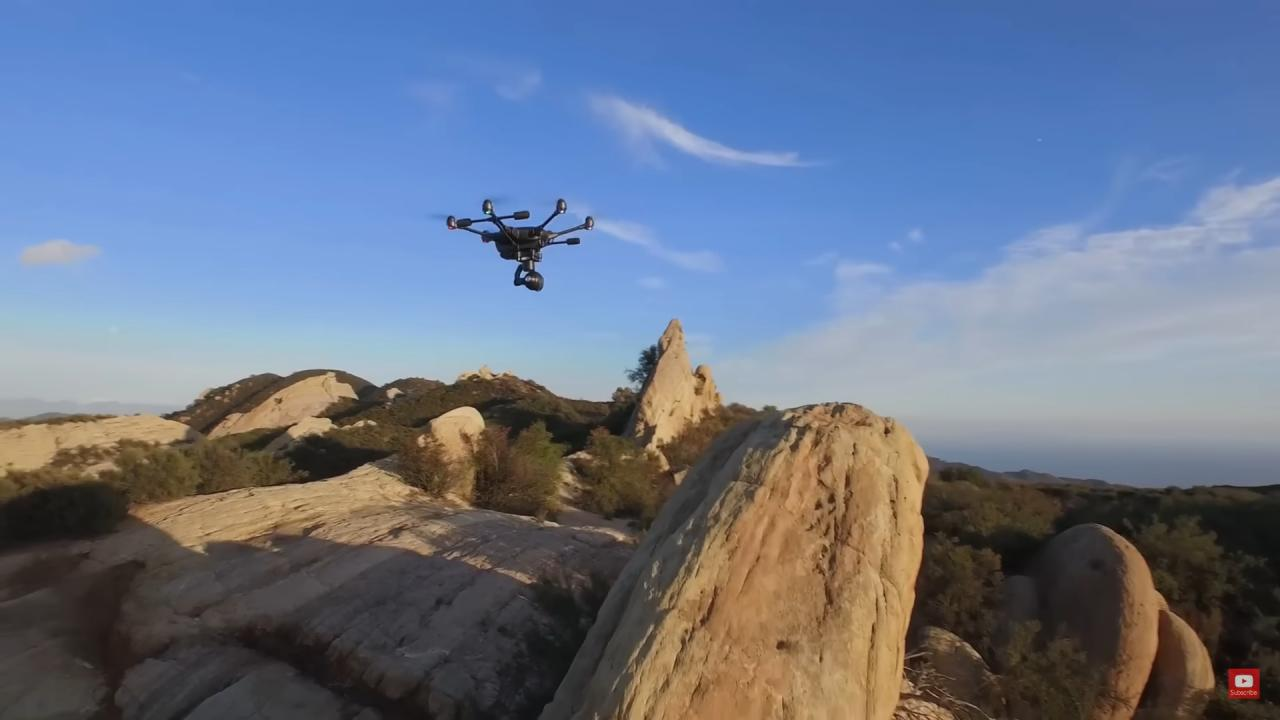Drone: (415, 184, 618, 301)
